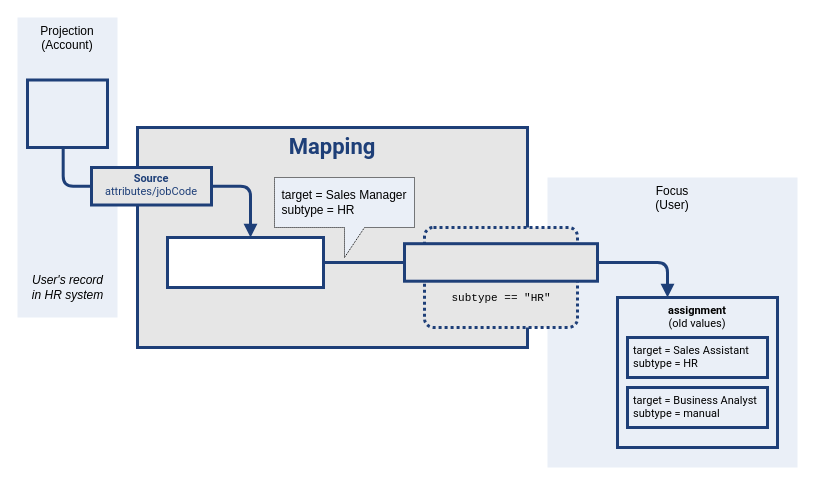
This 814x484 diagram has some shape labels left out. The shapes that lost their labels are listed below. From the top down, each one's box as (x1, y1, x2, y2) in pixels, then its label:
(26, 78, 108, 148): jobCode (new value) 30054
(166, 236, 324, 288): Expression assignmentTargetSearch
(402, 242, 598, 282): Target assignment
(422, 226, 578, 328): range
